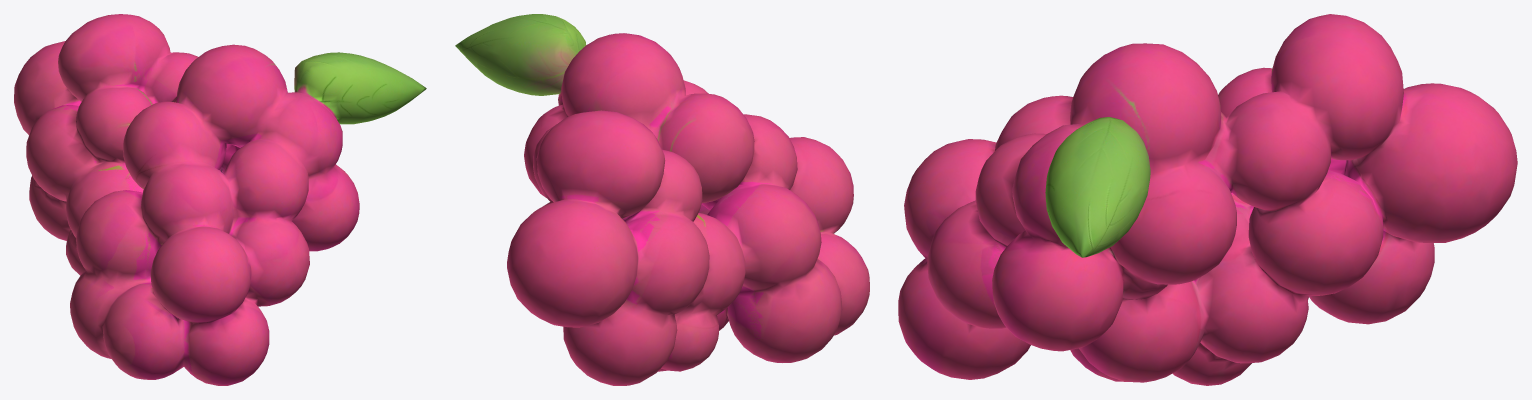
The model's file is grapes.glb.
3 renders of one model, left to right at view 1: azimuth 30°, elevation 25°; view 2: azimuth 150°, elevation 25°; view 3: azimuth 270°, elevation 25°, orthographic. The views are drawn at different scales.
Visible parts, largest first — view 1: Mesh_0; view 2: Mesh_0; view 3: Mesh_0.
Part boxes in pixels (left/top/right/bottom): Mesh_0: left=14, top=14, right=426, bottom=385; Mesh_0: left=455, top=14, right=869, bottom=385; Mesh_0: left=898, top=14, right=1517, bottom=385.
Size of the model in its own units: 2.15 by 1.6 by 2.39.
Materials: 1 (1 with a texture image).
